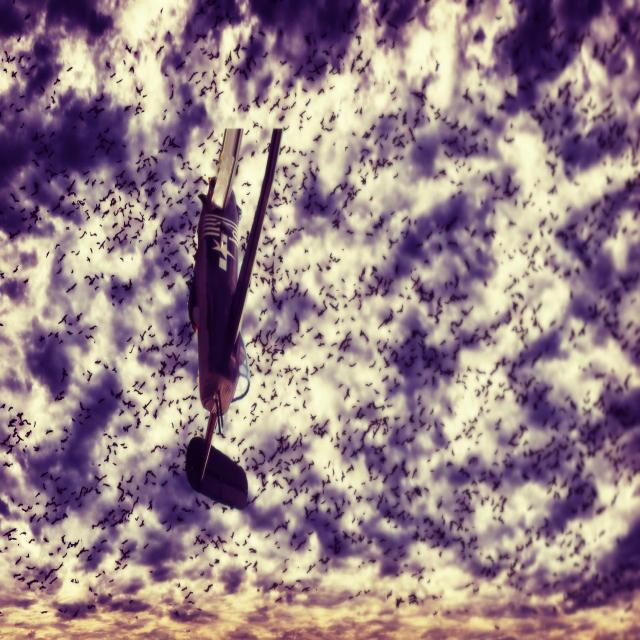airplane: (184, 125, 283, 510)
